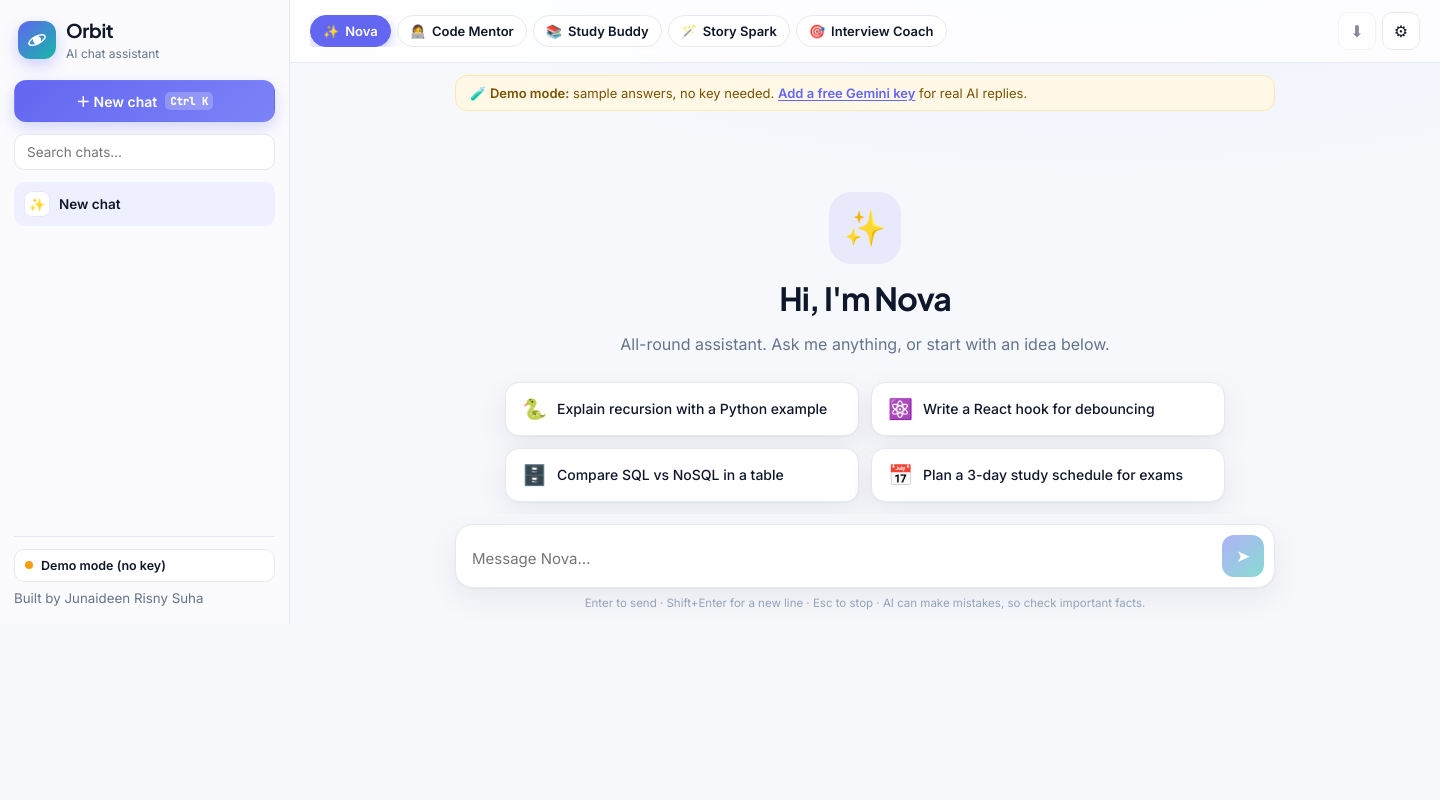
Test: Orbit app (integration, demo mode) › streams a full reply with a highlighted code block, then saves the chat
Click the button "🐍 Explain recursion with a Python example": (682, 409) [505, 382, 859, 436]
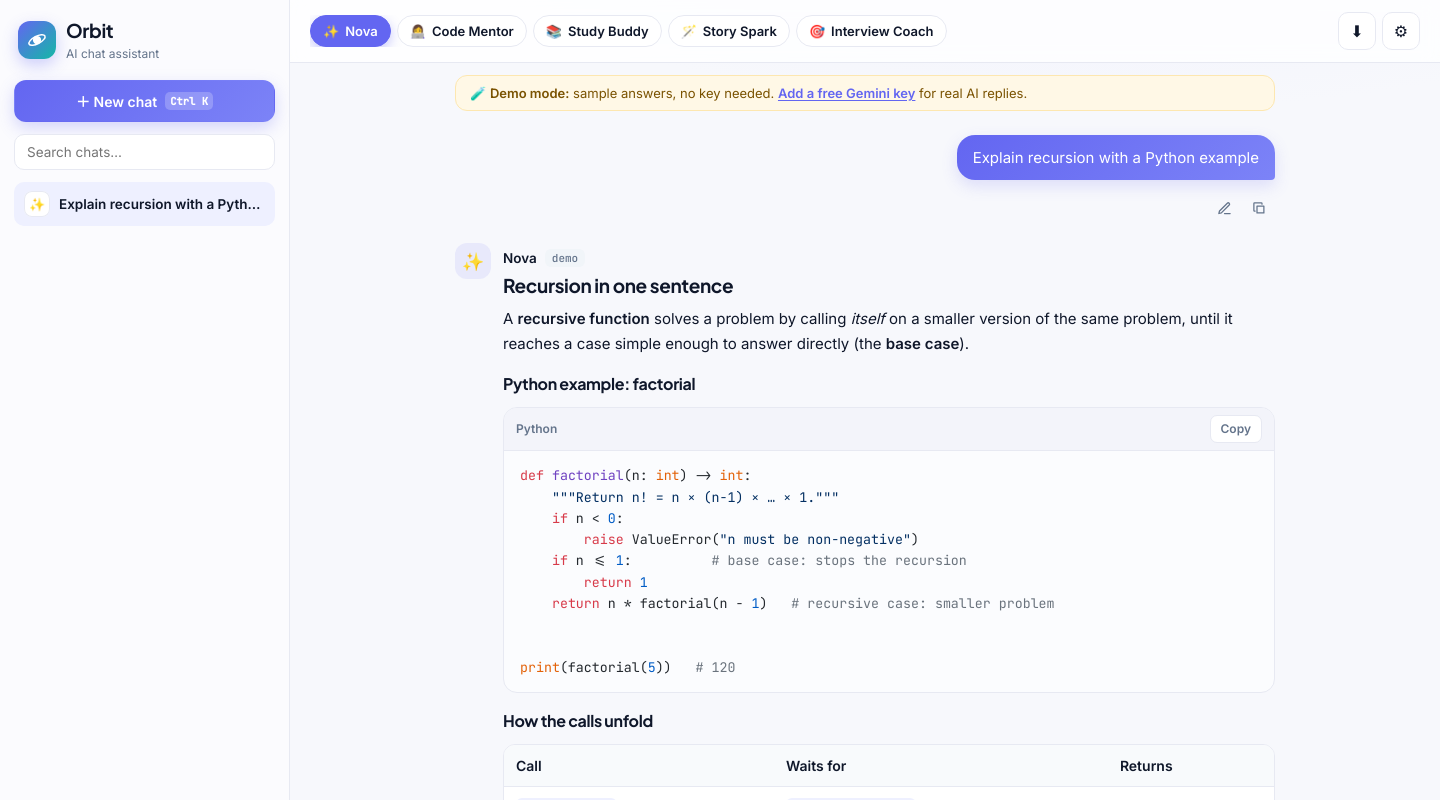
Now the element with class "user" shows "Explain recursion", box [973, 148, 1259, 167]
Now the element with class "code-head" shows "Python", box [516, 421, 557, 436]
Now the text with class "title" shows "Explain recursion", box [59, 196, 279, 212]
